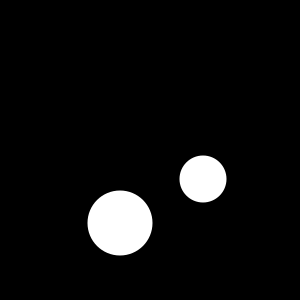rectangle: (88, 190, 152, 255), (179, 156, 226, 202)
